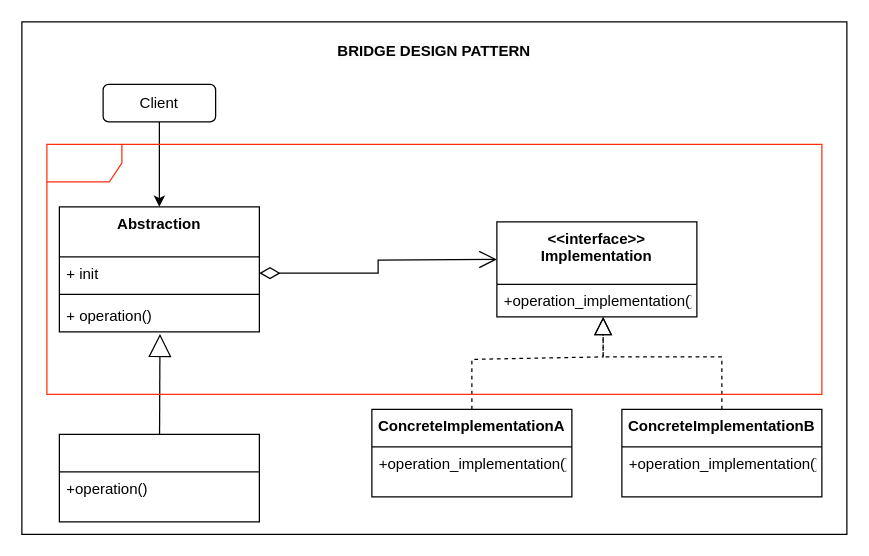
Image size: 869x556. Some labels were removed from this diagram. The box of each missing label's shape, as (x1, y1, x2, y2) in pixels:
Bridge: (46, 143, 822, 394)
ExtendedAbstraction: (58, 433, 259, 522)
